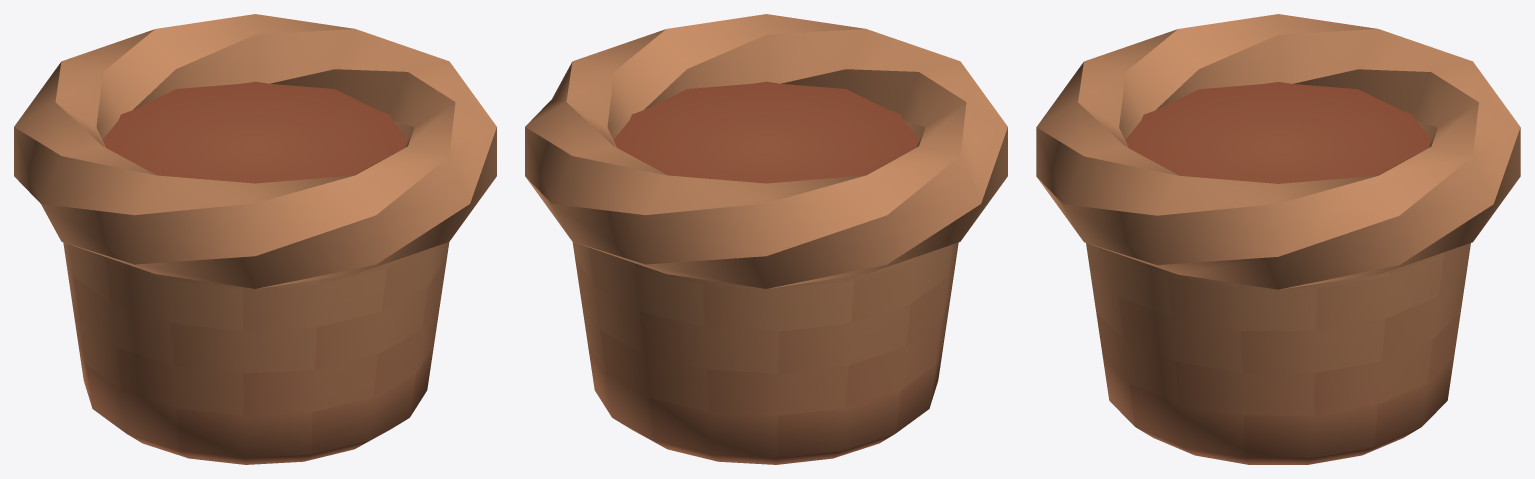
The model's file is pot-c-large.glb.
3 views of the same model, side by side, from view 1: azimuth 30°, elevation 25°; view 2: azimuth 150°, elevation 25°; view 3: azimuth 270°, elevation 25° (orthographic).
Parts seen in each view (by area): view 1: pot_C_large; view 2: pot_C_large; view 3: pot_C_large.
Boxes of the visible parts, x1,y1,x2,y2 form: pot_C_large: (14, 14, 496, 464); pot_C_large: (525, 14, 1007, 464); pot_C_large: (1036, 14, 1520, 464).
Size of the model in its own units: 1.5 by 1 by 1.46.
1 material, 1 textured.
